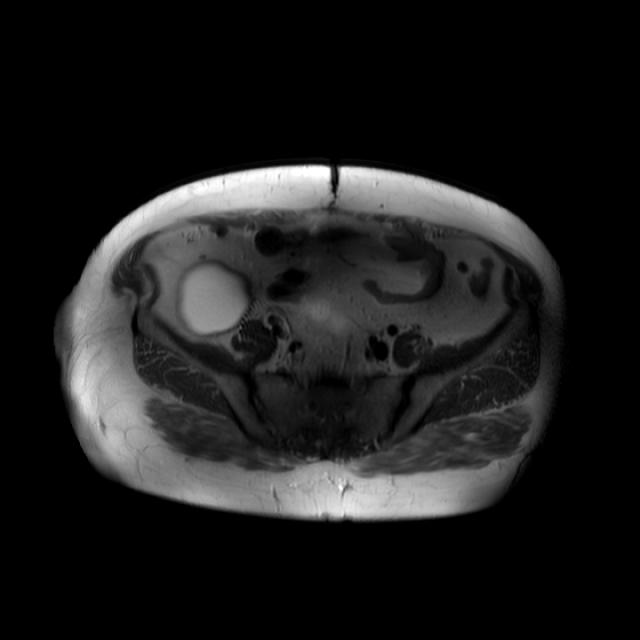sag: (180, 262, 250, 333)
